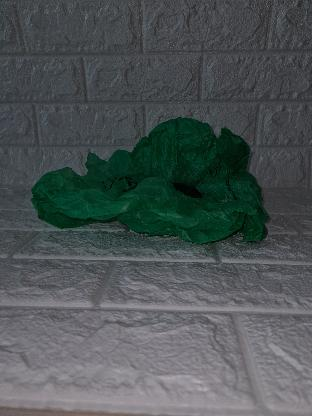Plastic Bag: (28, 116, 270, 248)
